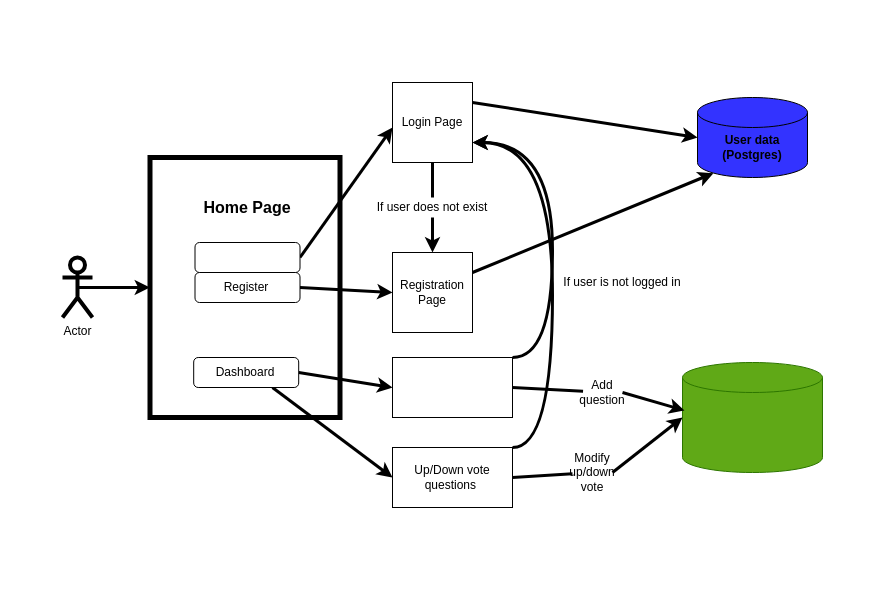
Some shapes in this 894 by 594 pixel diagram are drawn without their labels. The centre of each missing label's shape, as x and y in pixels:
"Add questions" goes at point 452,387.
"Login" goes at point 247,257.
"Question data (MongoDB)" goes at point 752,417.
